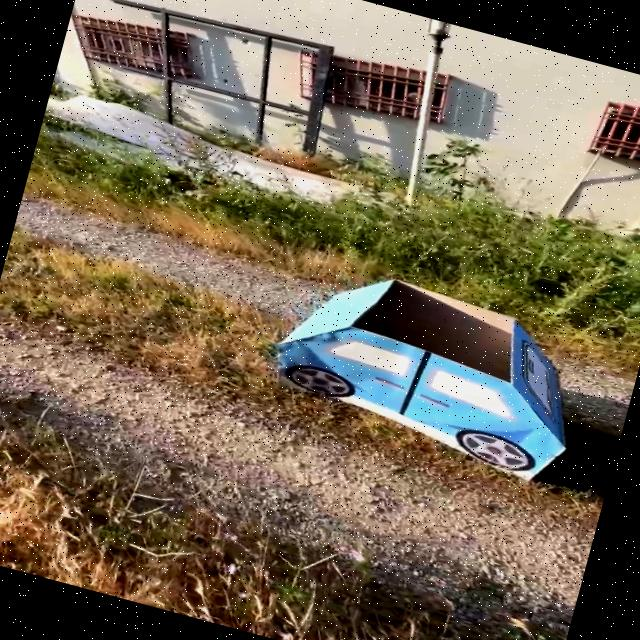blue_car: (208, 209, 640, 493)
